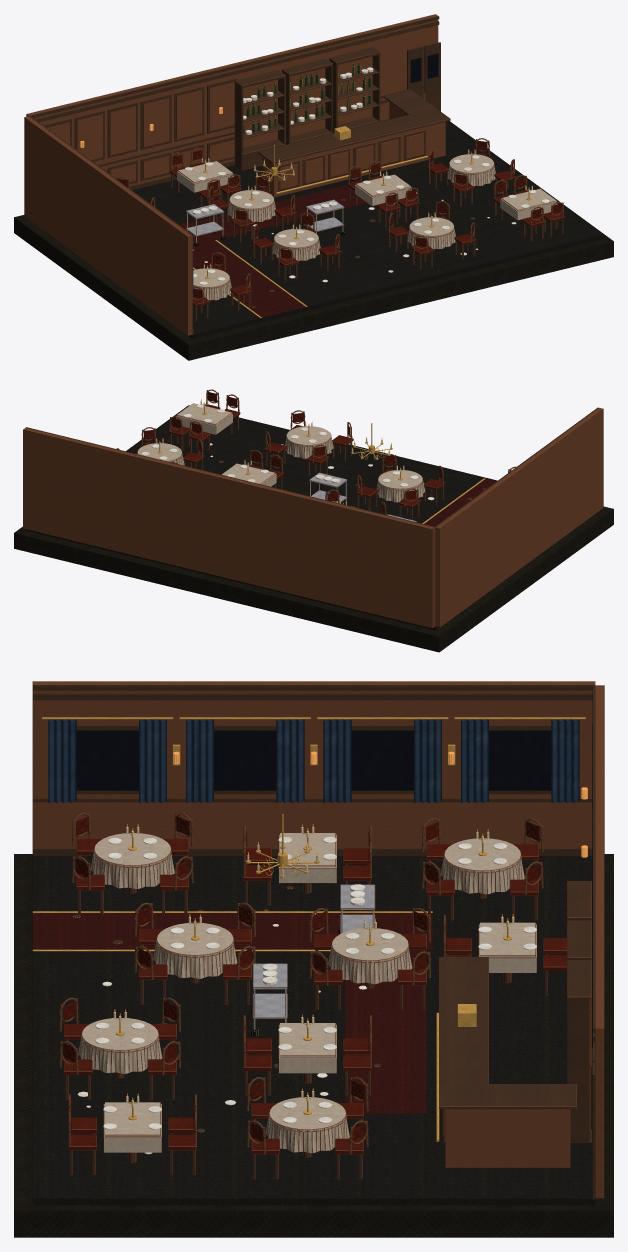
The model's file is dining_car.glb.
3 views of the same model, one above another, from view 1: azimuth 30°, elevation 25°; view 2: azimuth 150°, elevation 25°; view 3: azimuth 270°, elevation 25° (orthographic). The views are drawn at different scales.
Parts seen in each view (by area): view 1: Car shell, Furniture, Details; view 2: Car shell, Furniture, Details; view 3: Car shell, Furniture, Details, Curtain, Curtain.004, Curtain.003, Curtain.007, Curtain.001, Curtain.005, Curtain.002, Curtain.006.
Boxes of the visible parts, x1=… form: Car shell: x1=14, y1=14, x2=613, y2=360; Furniture: x1=116, y1=47, x2=564, y2=320; Details: x1=80, y1=62, x2=549, y2=317; Car shell: x1=14, y1=405, x2=613, y2=652; Furniture: x1=116, y1=389, x2=515, y2=522; Details: x1=141, y1=399, x2=485, y2=523; Car shell: x1=14, y1=681, x2=613, y2=1237; Furniture: x1=59, y1=813, x2=591, y2=1179; Details: x1=32, y1=717, x2=587, y2=1154; Curtain: x1=48, y1=719, x2=76, y2=803; Curtain.004: x1=323, y1=719, x2=351, y2=803; Curtain.003: x1=276, y1=719, x2=304, y2=803; Curtain.007: x1=551, y1=719, x2=579, y2=803; Curtain.001: x1=139, y1=719, x2=166, y2=803; Curtain.005: x1=414, y1=719, x2=441, y2=803; Curtain.002: x1=186, y1=719, x2=213, y2=803; Curtain.006: x1=461, y1=719, x2=488, y2=803.
Size of the model in its own units: 13.5 by 3.6 by 9.6.
17 materials, 17 textured.
